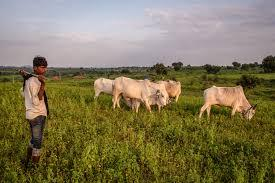cow: (197, 86, 256, 124), (113, 77, 167, 114), (94, 78, 115, 99), (162, 81, 182, 103)
